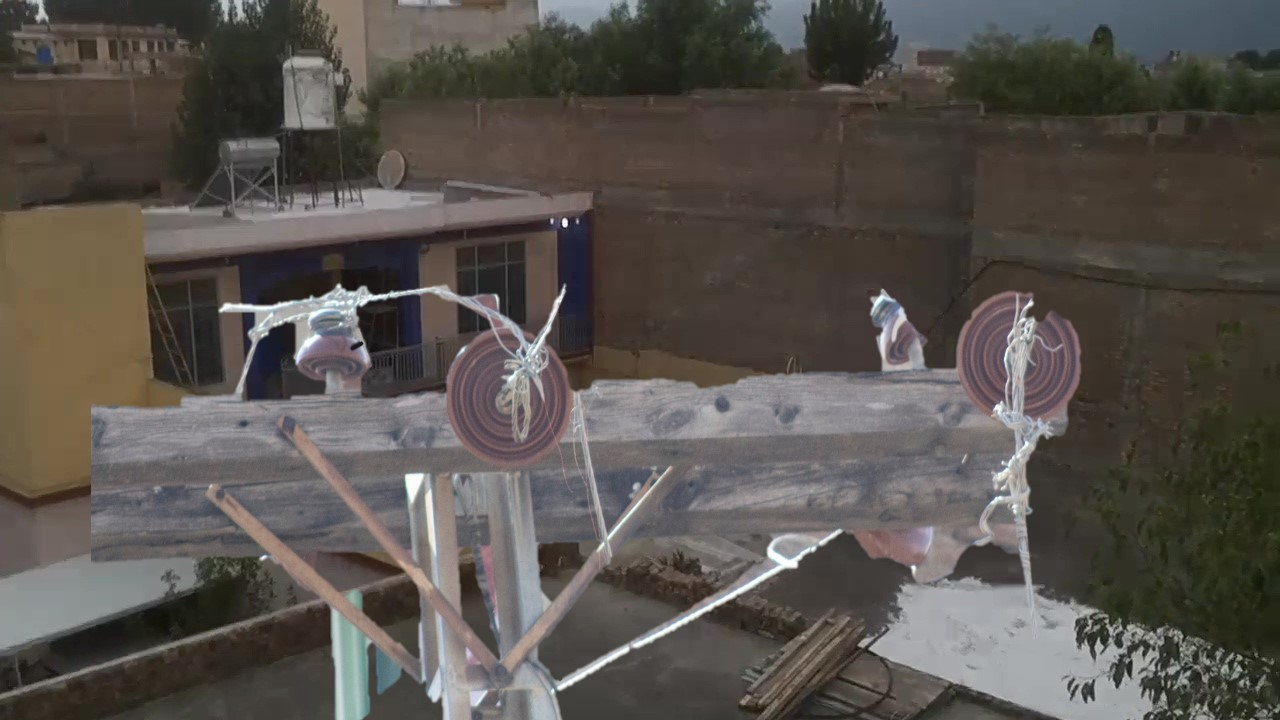defect_pin: (864, 279, 936, 381)
insulator_disc: (441, 324, 578, 470), (955, 287, 1088, 427)
insulator_pin: (289, 303, 376, 386)
